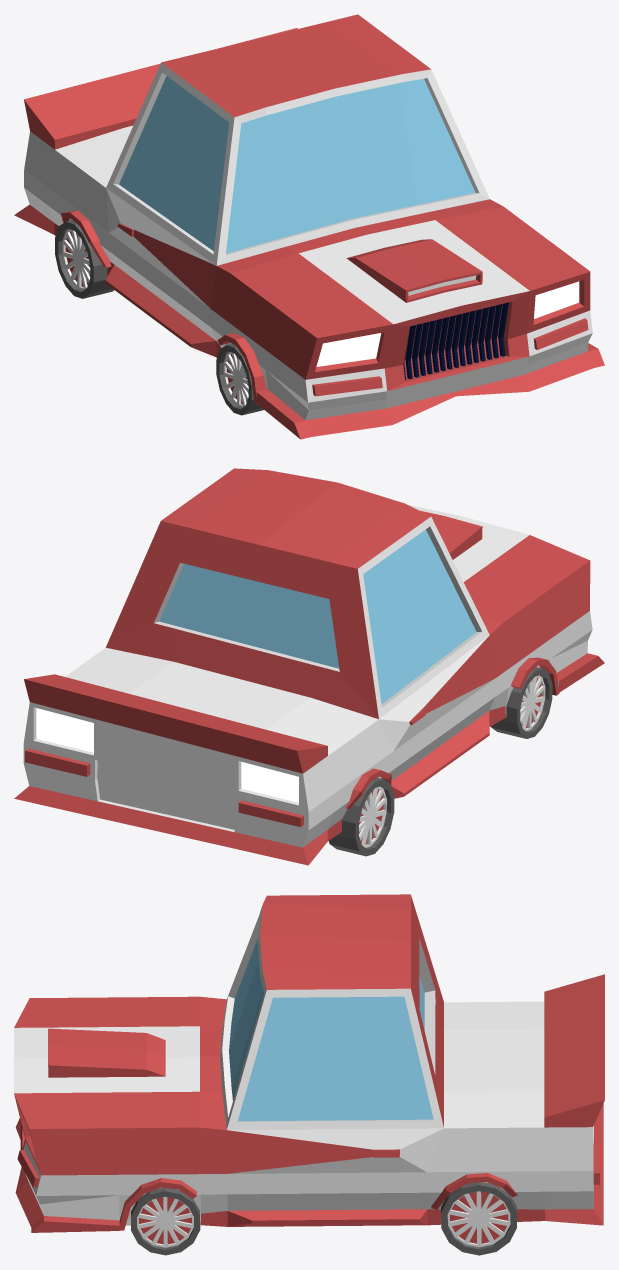
File: car2.fbx
3 views of the same model, one above another, from view 1: azimuth 30°, elevation 25°; view 2: azimuth 150°, elevation 25°; view 3: azimuth 270°, elevation 25° (orthographic).
Parts seen in each view (by area): view 1: car1; view 2: car1; view 3: car1.
Part boxes in pixels (box(x1,y1,x2,y2)): car1: box(14, 14, 604, 439); car1: box(14, 468, 604, 865); car1: box(14, 894, 604, 1255).
Size of the model in its own units: 138 by 110 by 236.
